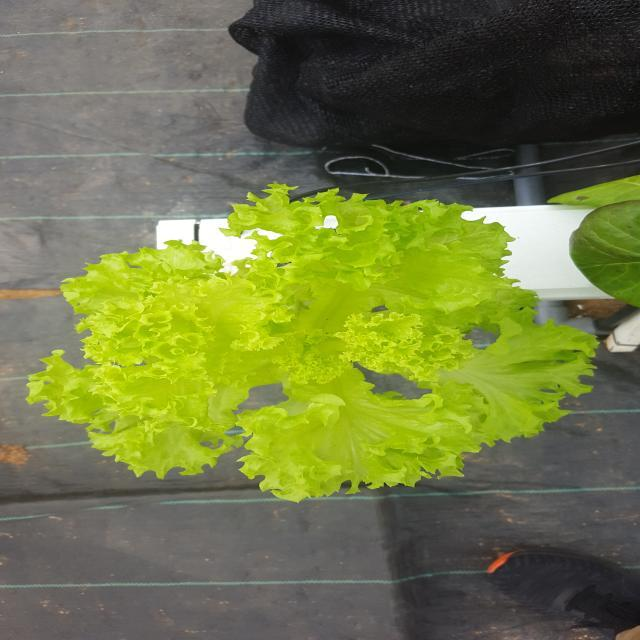Lettuce-Ready-to-Harvest: (26, 180, 605, 501)
